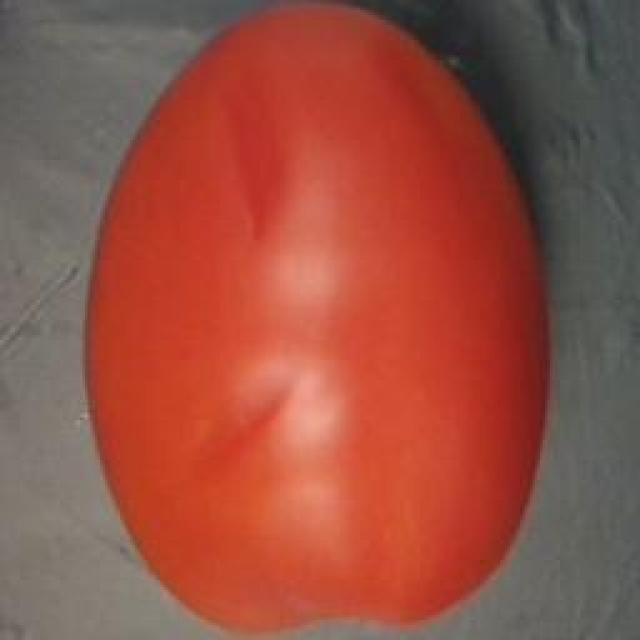ripe tomato: (68, 0, 568, 640)
